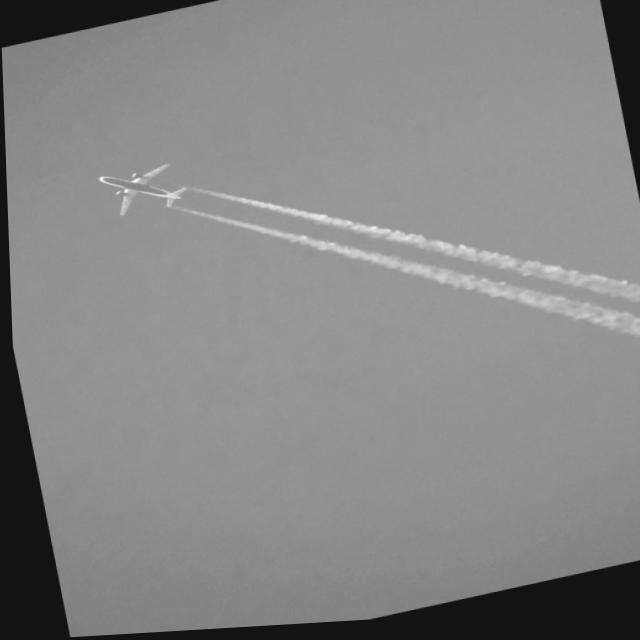aeroplane: (91, 156, 198, 227)
